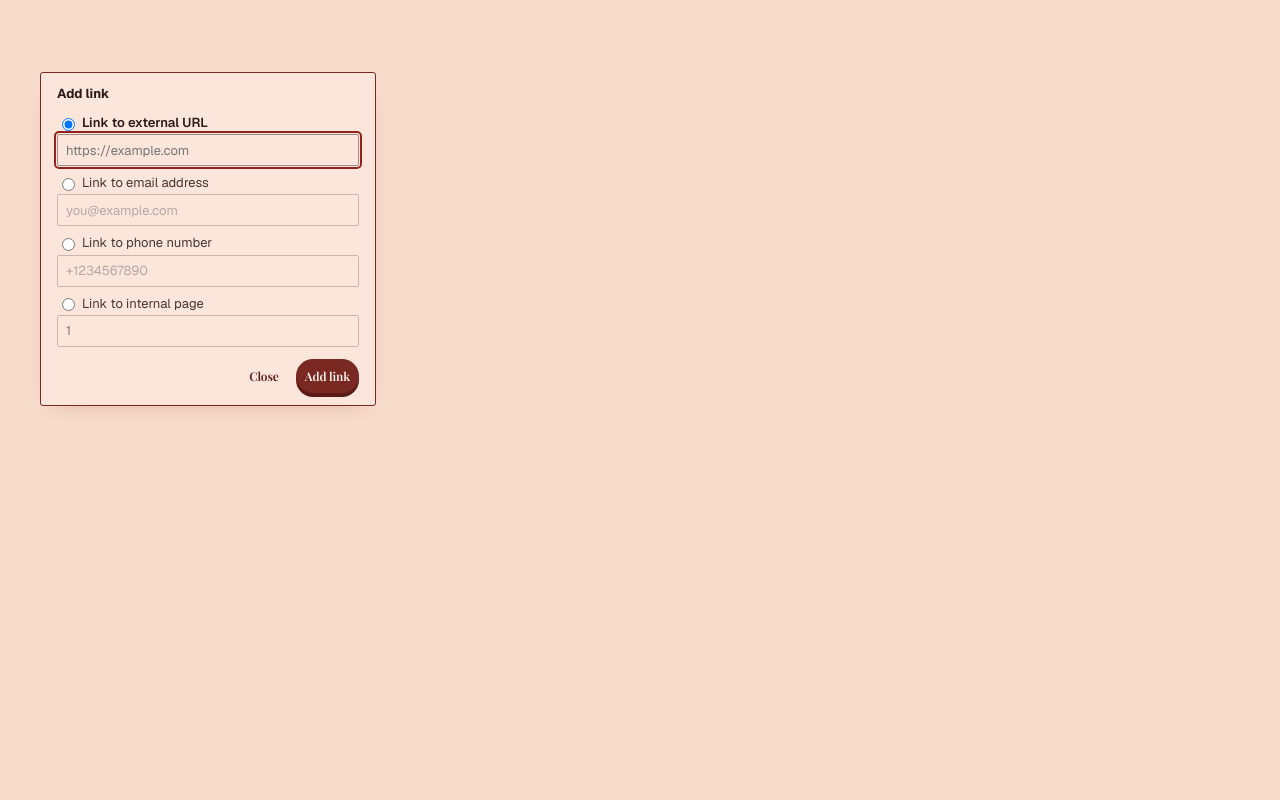
it: LinkPropertiesDialog › shows an inline error instead of confirming an invalid value, and clears it on edit
The image size is (1280, 800).
Type "javascript:alert(1)" into the field named "External URL".
click(208, 150); type("javascript:alert(1)")  # box left=57, top=134, right=359, bottom=166
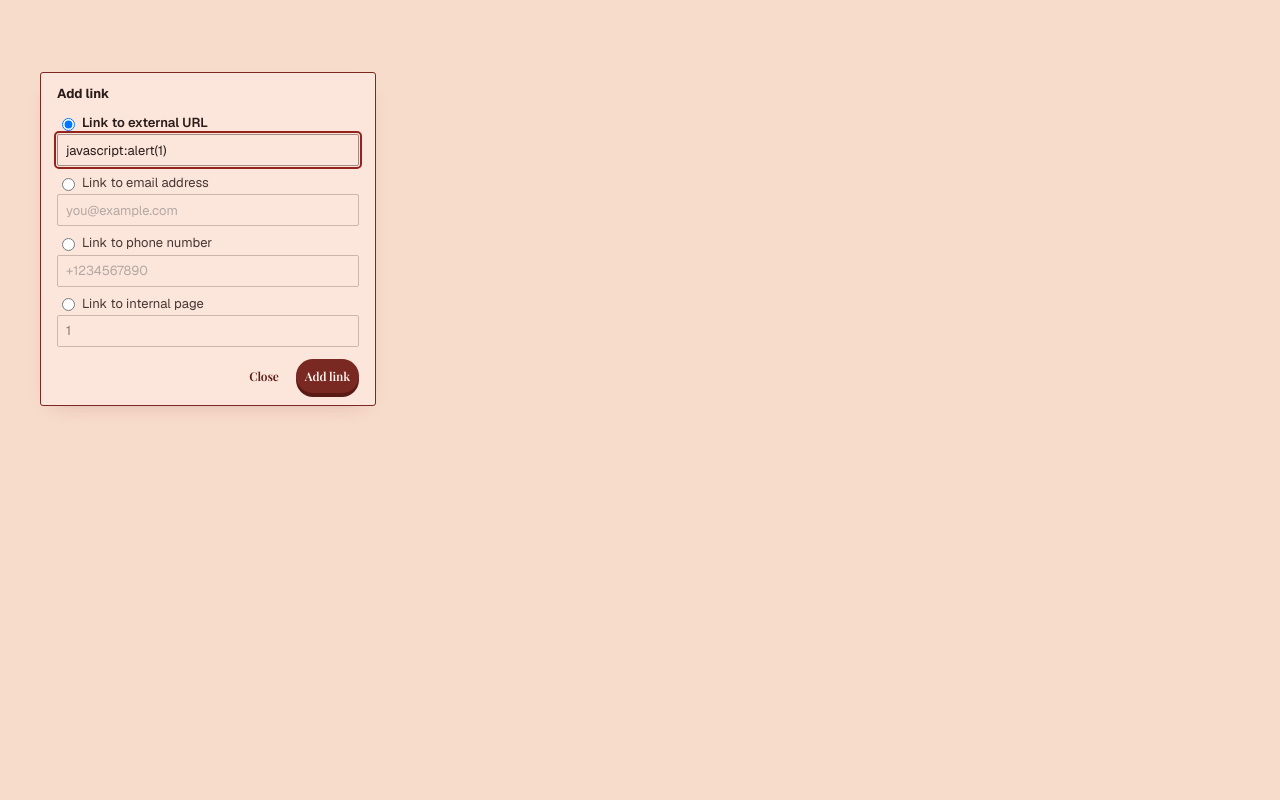
Click the button "Add link".
click(327, 376)  # box left=296, top=359, right=359, bottom=393
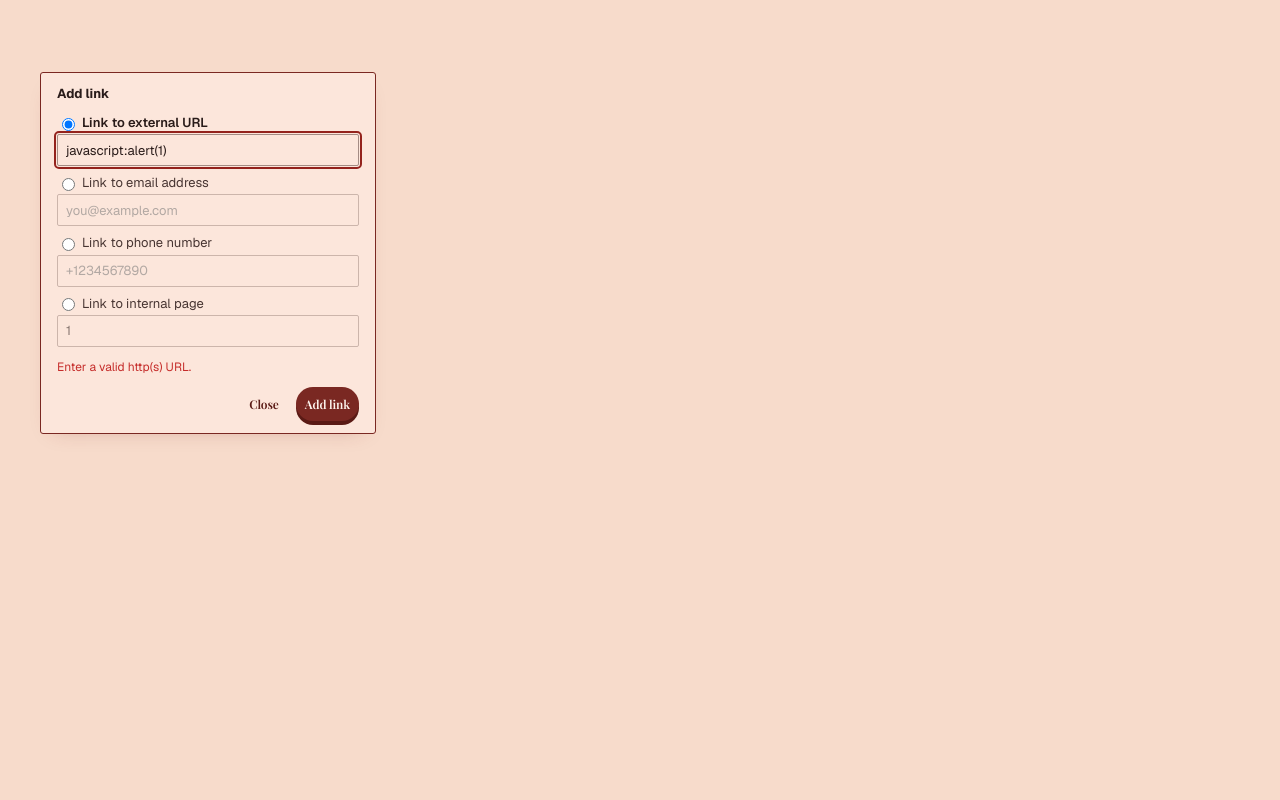
Result: the message reads "Enter a valid http(s) URL." at left=57, top=359, right=191, bottom=375
Replace the text in the field named "External URL" with "https://example.com" at (208, 150), box left=57, top=134, right=359, bottom=166
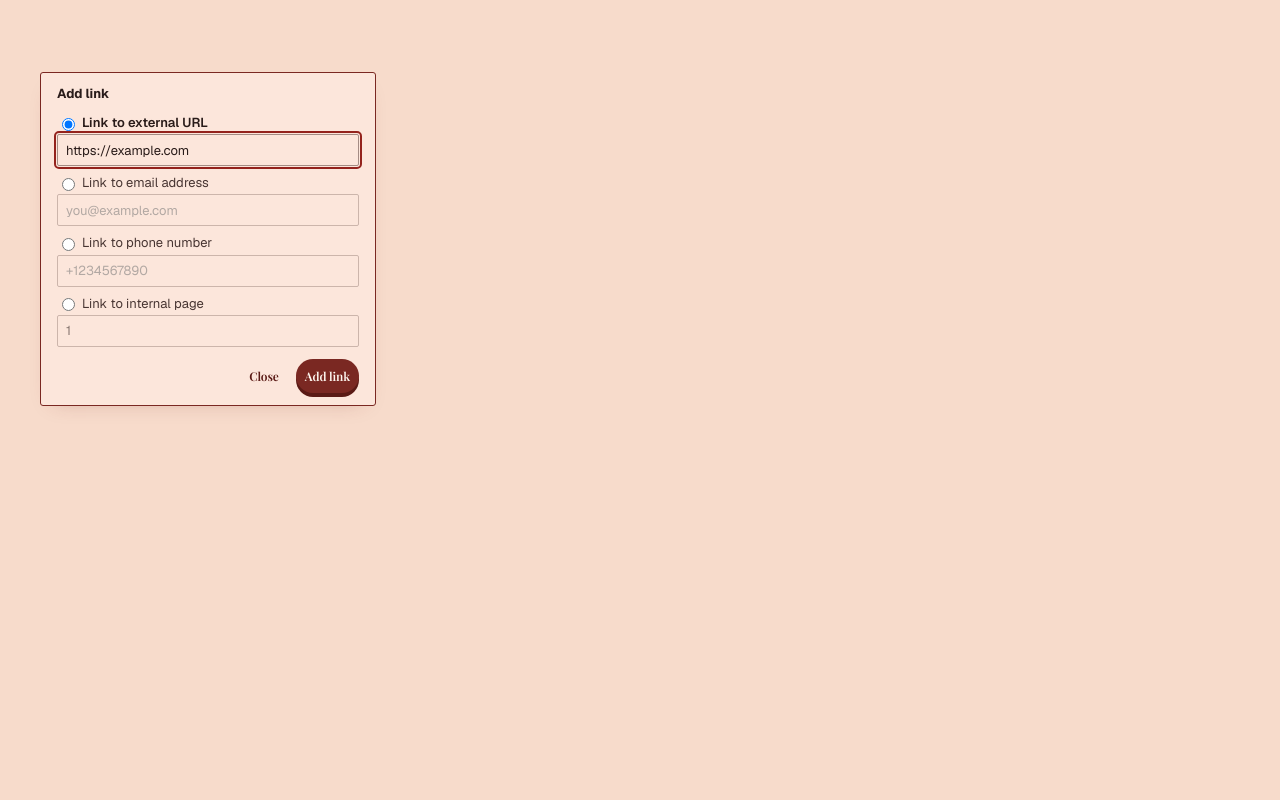
Result: the message "Enter a valid http(s) URL." is gone
